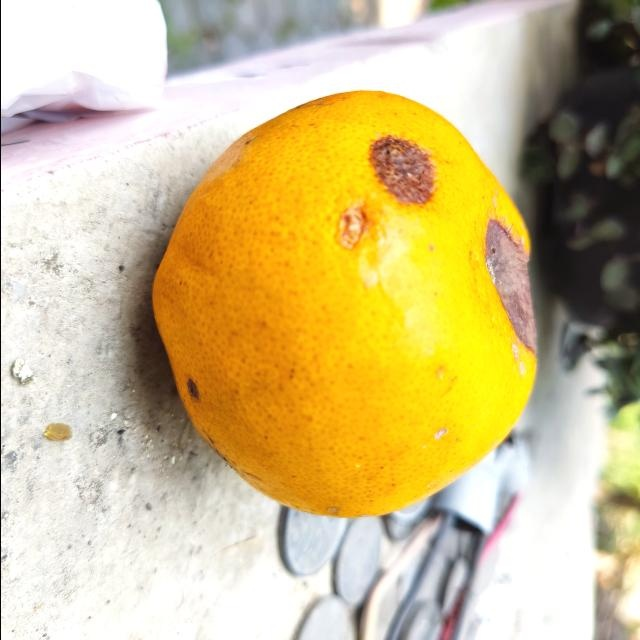agrume: (149, 86, 535, 522)
